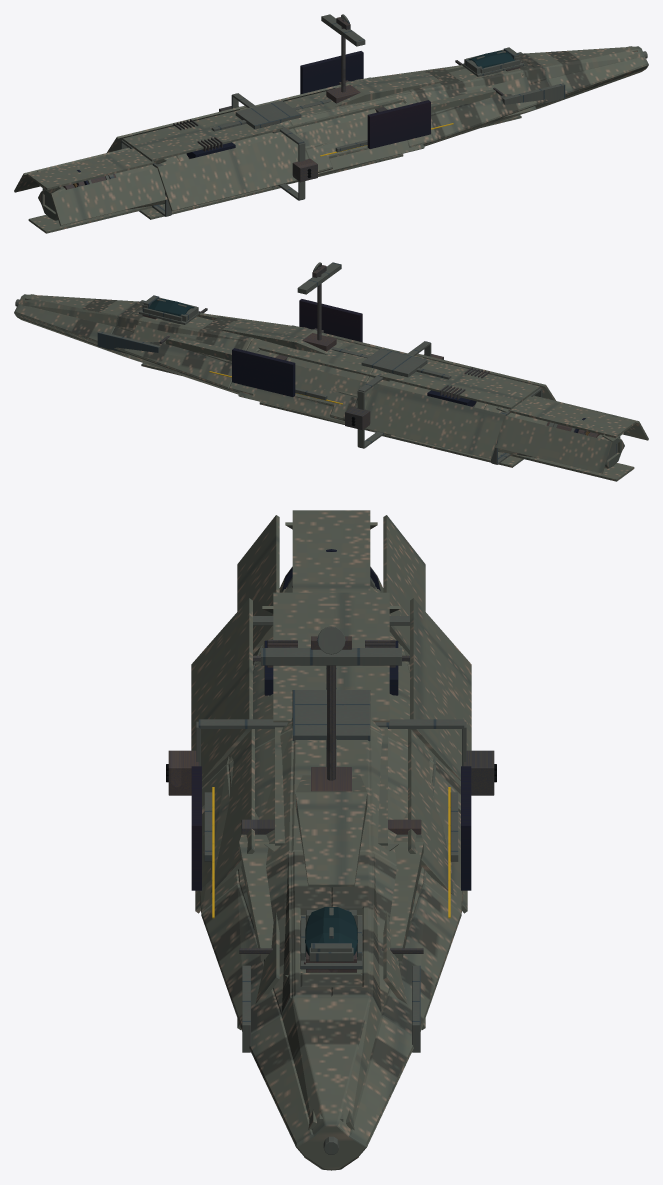
Rendered from survey_pin_production_v1_lod1.glb.
3 renders of one model, top to bottom at view 1: azimuth 30°, elevation 25°; view 2: azimuth 150°, elevation 25°; view 3: azimuth 270°, elevation 25°, orthographic. The views are drawn at different scales.
Visible parts, largest first — view 1: LOD1_Hull, LOD1_Armor, LOD1_Radiator, LOD1_Mechanical, LOD1_Canopy; view 2: LOD1_Hull, LOD1_Armor, LOD1_Radiator, LOD1_Mechanical, LOD1_Canopy; view 3: LOD1_Hull, LOD1_Armor, LOD1_Mechanical, LOD1_Radiator, LOD1_Canopy.
Boxes of the visible parts, bbox=[...] form: LOD1_Hull: bbox=[14, 46, 648, 233]; LOD1_Armor: bbox=[42, 14, 647, 216]; LOD1_Radiator: bbox=[77, 51, 430, 184]; LOD1_Mechanical: bbox=[63, 17, 522, 189]; LOD1_Canopy: bbox=[468, 51, 514, 68]; LOD1_Hull: bbox=[14, 294, 648, 481]; LOD1_Armor: bbox=[15, 262, 620, 464]; LOD1_Radiator: bbox=[232, 299, 585, 432]; LOD1_Mechanical: bbox=[142, 265, 599, 437]; LOD1_Canopy: bbox=[148, 299, 194, 316]; LOD1_Hull: bbox=[191, 510, 471, 1170]; LOD1_Armor: bbox=[196, 577, 466, 1154]; LOD1_Mechanical: bbox=[168, 586, 494, 972]; LOD1_Radiator: bbox=[191, 549, 471, 890]; LOD1_Canopy: bbox=[305, 907, 357, 956].
Size of what is drawn, in the model's own units: 10.96 by 2.5 by 2.58.
8 materials, 8 textured.
